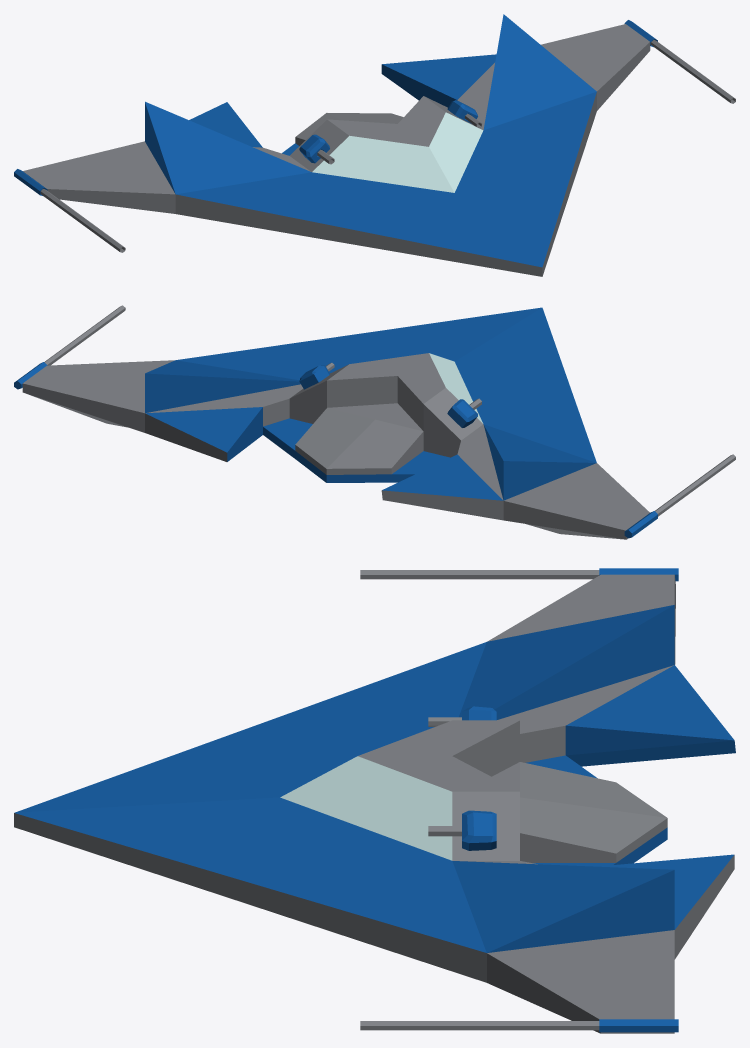
File: drone_8_2.gltf
3 renders of one model, top to bottom at view 1: azimuth 30°, elevation 25°; view 2: azimuth 150°, elevation 25°; view 3: azimuth 270°, elevation 25°, orthographic. The views are drawn at different scales.
Visible parts, largest first — view 1: 8.002; view 2: 8.002; view 3: 8.002.
Part boxes in pixels (bbox=[...]): 8.002: bbox=[14, 14, 735, 276]; 8.002: bbox=[14, 305, 735, 539]; 8.002: bbox=[14, 568, 735, 1033].
Bounding box in the file's own units: 4.48 × 0.4692 × 2.99.
1 material, 1 textured.
